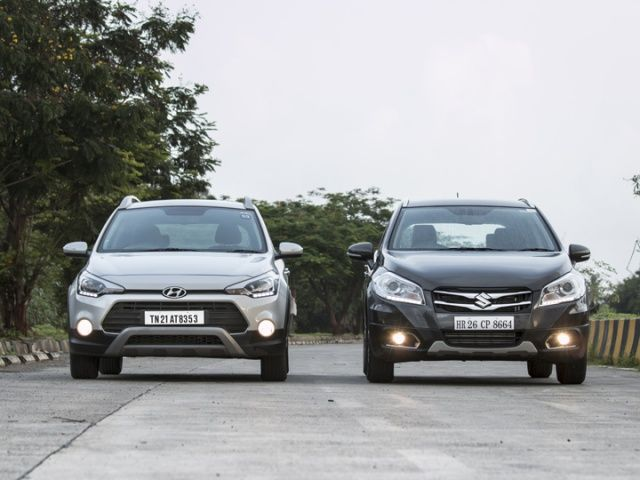car: (339, 188, 599, 399), (51, 191, 310, 395)
